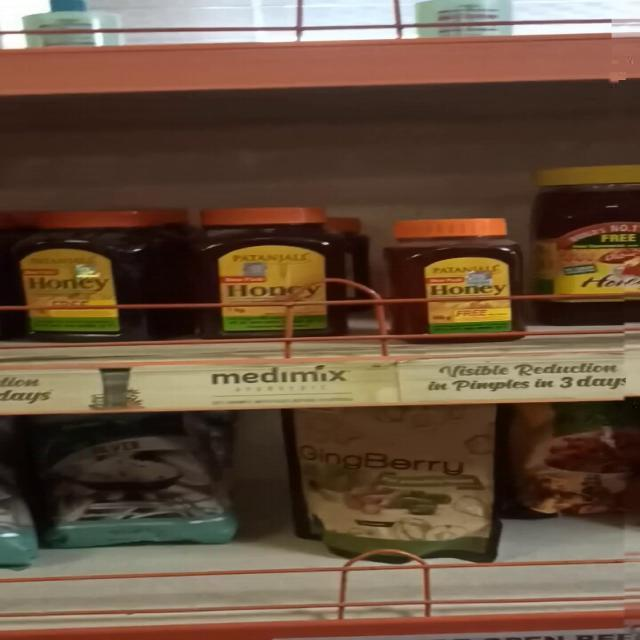Patanjali Honey: (195, 204, 332, 338), (374, 220, 522, 343), (5, 208, 121, 338)
